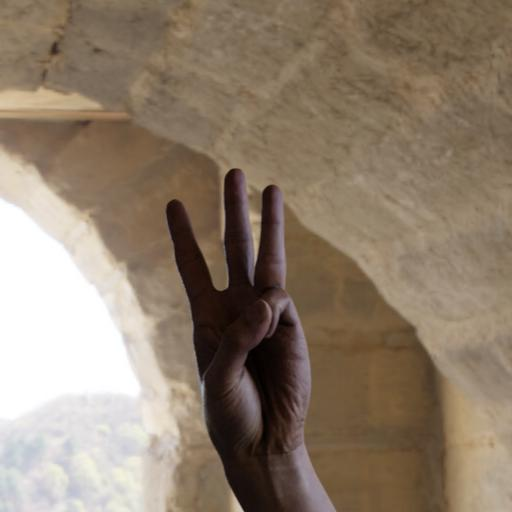W: (148, 152, 349, 512)
